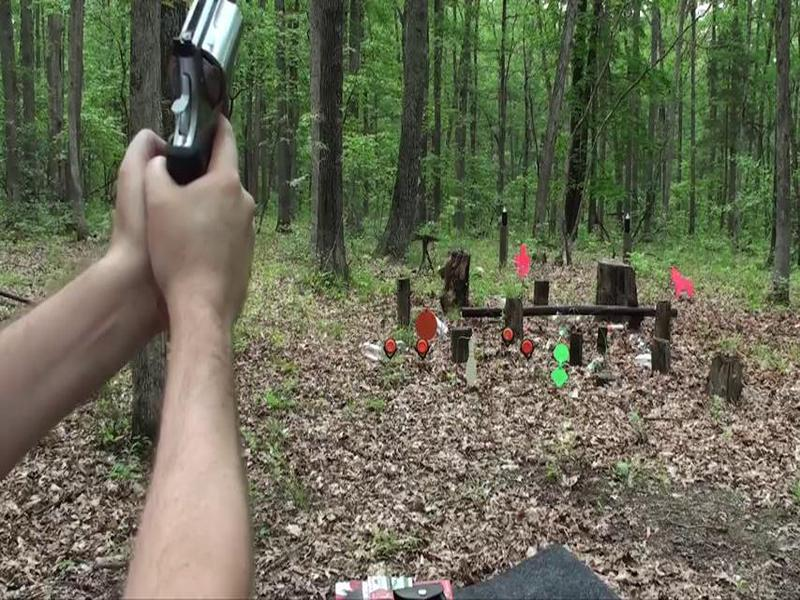Revolver: (146, 1, 278, 233)
